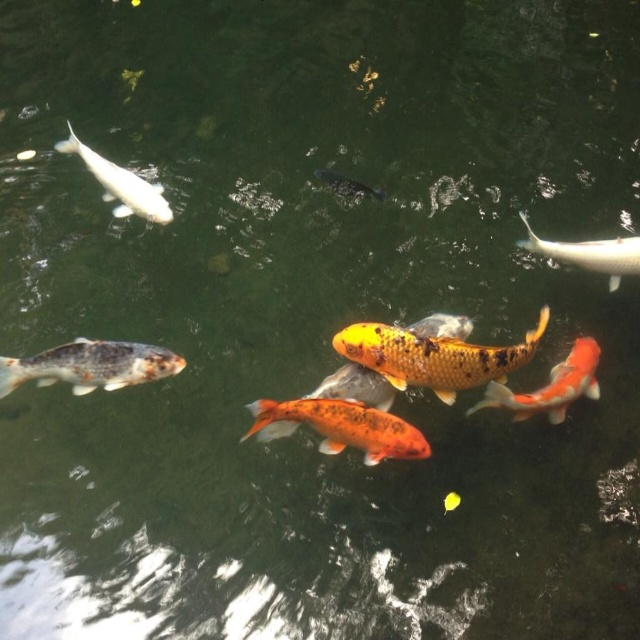Fish: (238, 305, 601, 468), (53, 118, 173, 226), (0, 335, 188, 399), (515, 211, 640, 293)
